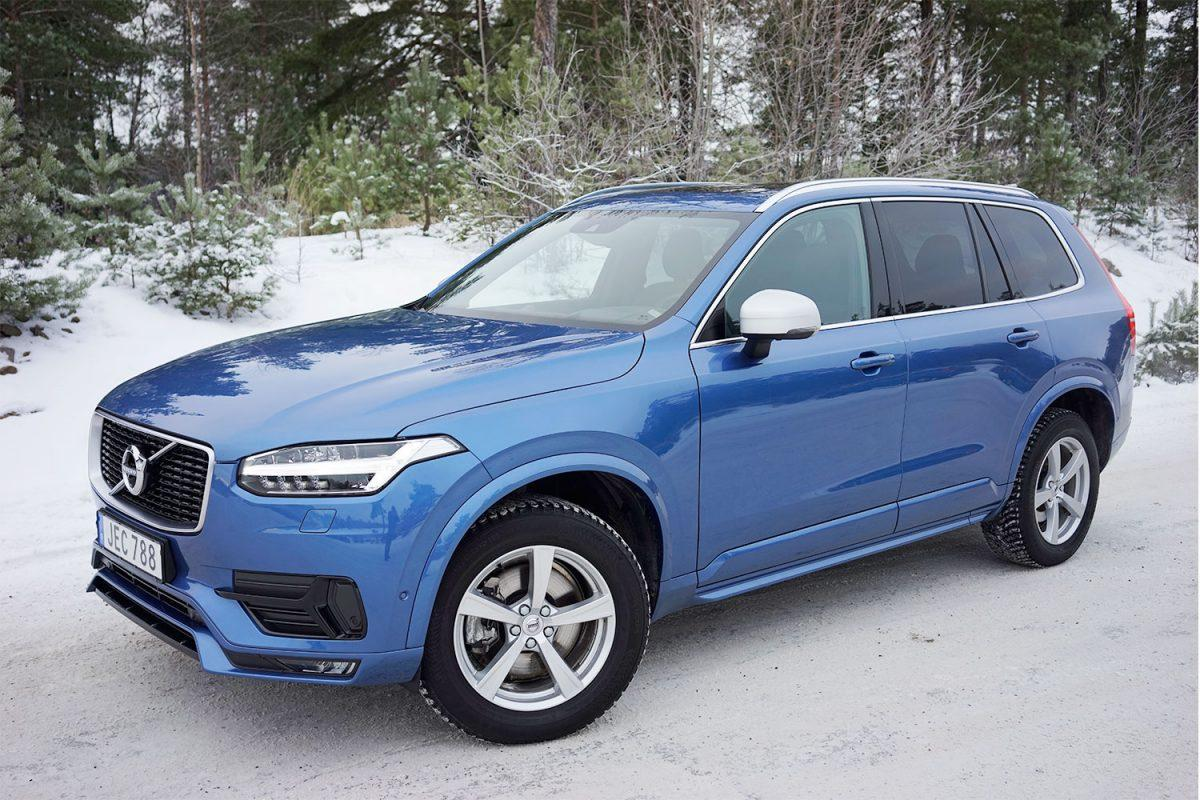license-plates: (93, 506, 167, 583)
